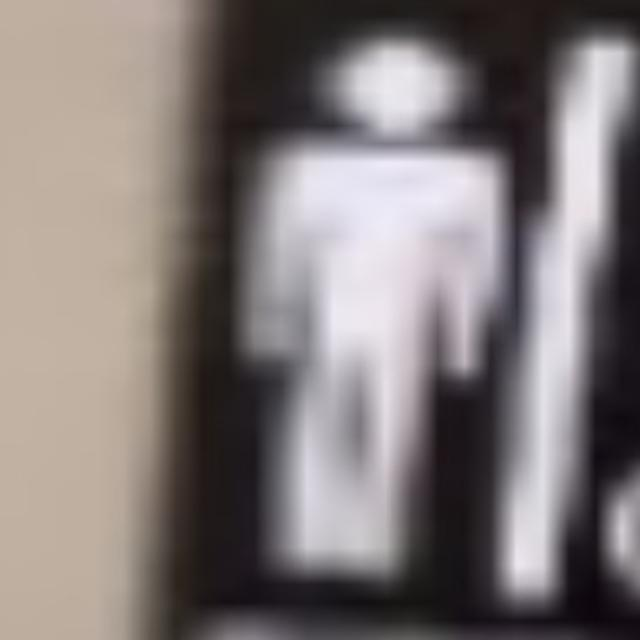mens_restroom: (235, 34, 504, 586)
